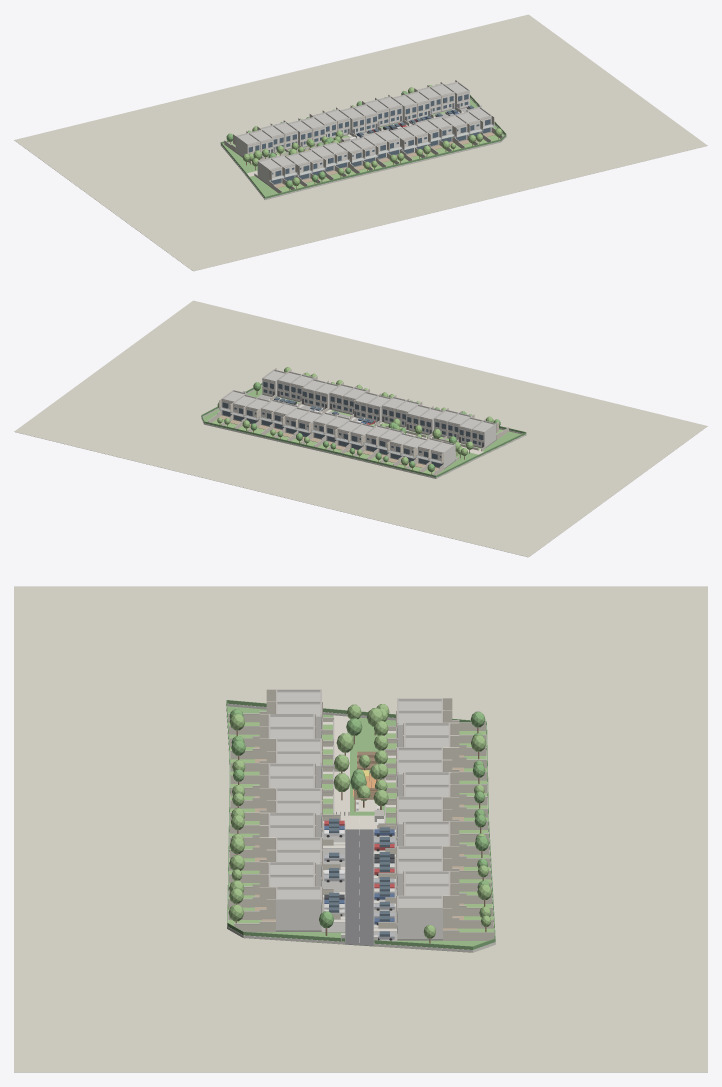
3 views of the same model, one above another, from view 1: azimuth 30°, elevation 25°; view 2: azimuth 150°, elevation 25°; view 3: azimuth 270°, elevation 25° (orthographic). The views are drawn at different scales.
Parts seen in each view (by area): view 1: zemin__zemin, villa__duvar, villa__cakil, villa__cam, villa__harpusta, villa__duvar2, agac__yaprak2, peyzaj__perde, villa__perde, peyzaj__cit, peyzaj__cim, peyzaj__bahce_duv (+3 smaller); view 2: zemin__zemin, villa__duvar, villa__cakil, villa__cam, villa__harpusta, villa__duvar2, peyzaj__perde, peyzaj__cit, agac__yaprak2, villa__perde, peyzaj__cim, peyzaj__bahce_duv (+5 smaller); view 3: zemin__zemin, villa__cakil, peyzaj__perde, villa__duvar, agac__yaprak2, villa__perde, villa__harpusta, peyzaj__cim, yol__asfalt, agac__yaprak, peyzaj__cit, peyzaj__harpusta (+6 smaller).
Boxes of the visible parts, x1,y1,x2,y2 form: zemin__zemin: [14, 14, 707, 271]; villa__duvar: [235, 82, 493, 184]; villa__cakil: [238, 83, 488, 168]; villa__cam: [248, 94, 490, 184]; villa__harpusta: [236, 81, 491, 169]; villa__duvar2: [247, 84, 491, 182]; agac__yaprak2: [243, 84, 502, 185]; peyzaj__perde: [224, 108, 502, 193]; villa__perde: [233, 80, 494, 180]; peyzaj__cit: [220, 95, 506, 198]; peyzaj__cim: [229, 110, 506, 192]; peyzaj__bahce_duv: [220, 97, 506, 199]; zemin__zemin: [14, 300, 707, 557]; villa__duvar: [219, 370, 496, 468]; villa__cakil: [224, 371, 493, 452]; villa__cam: [222, 381, 483, 467]; villa__harpusta: [221, 369, 496, 452]; villa__duvar2: [221, 372, 484, 463]; peyzaj__perde: [208, 395, 508, 475]; peyzaj__cit: [201, 383, 526, 477]; agac__yaprak2: [217, 367, 493, 465]; villa__perde: [219, 367, 498, 463]; peyzaj__cim: [212, 397, 503, 474]; peyzaj__bahce_duv: [201, 385, 526, 478]; zemin__zemin: [14, 586, 707, 1072]; villa__cakil: [270, 692, 448, 907]; peyzaj__perde: [228, 712, 494, 940]; villa__duvar: [270, 690, 448, 938]; agac__yaprak2: [228, 704, 491, 938]; villa__perde: [259, 689, 459, 926]; villa__harpusta: [268, 689, 450, 908]; peyzaj__cim: [228, 722, 493, 952]; yol__asfalt: [345, 829, 373, 946]; agac__yaprak: [229, 709, 490, 927]; peyzaj__cit: [226, 700, 495, 949]; peyzaj__harpusta: [228, 711, 494, 932].
Bounding box in the file's own units: 244 × 7.75 × 147.
